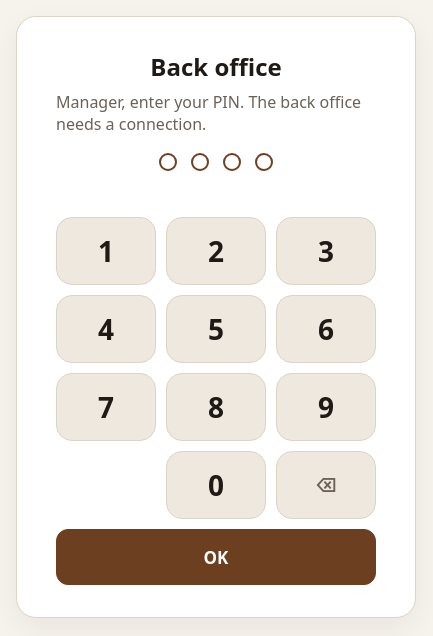
Scenario: manager gate › says when the server is out of reach
The width and height of the screenshot is (433, 636).
Click the button "1" at (106, 251), box 56,217 -> 156,285
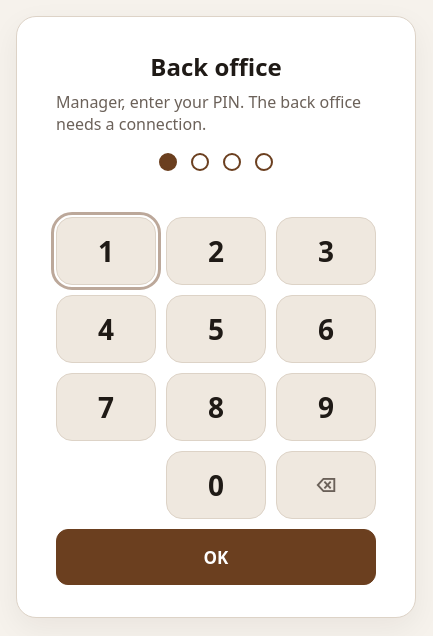
Click the button "2" at (216, 251), box 166,217 -> 266,285
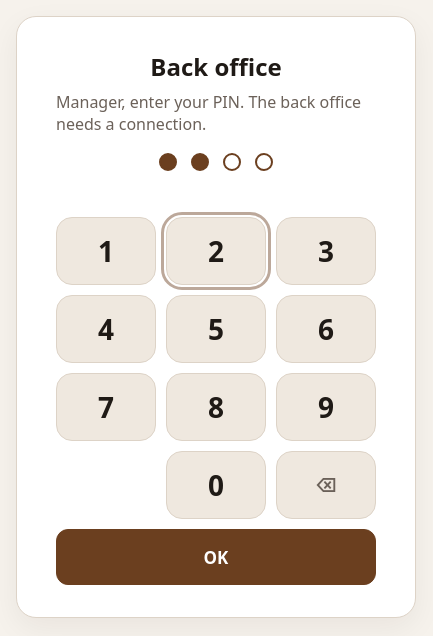
Click the button "3" at (326, 251), box 276,217 -> 376,285
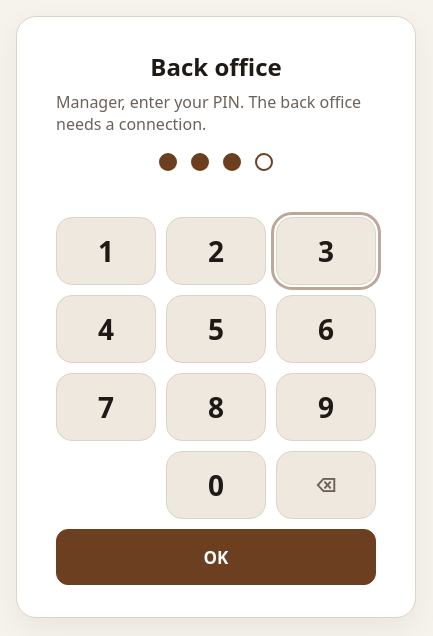
Click the button "4" at (106, 329), box 56,295 -> 156,363
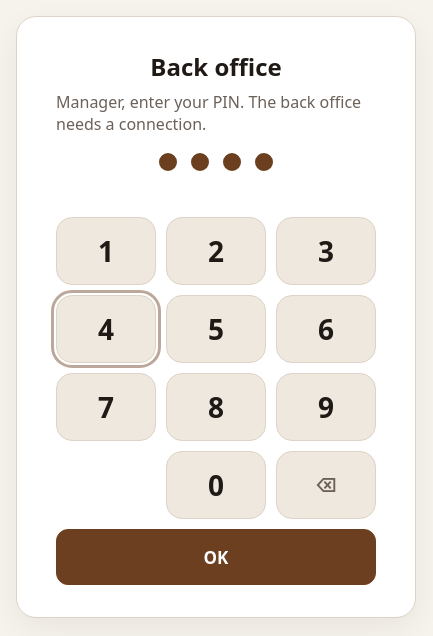
Click the button "OK" at (216, 557), box 56,529 -> 376,585
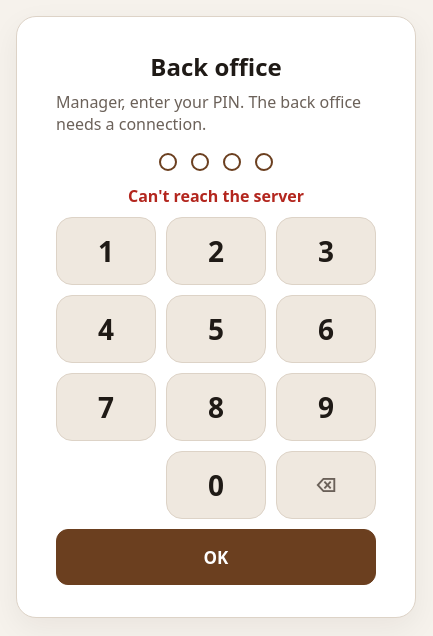
Expected: the message "Can't reach the server" is shown, 128,185 -> 304,207
